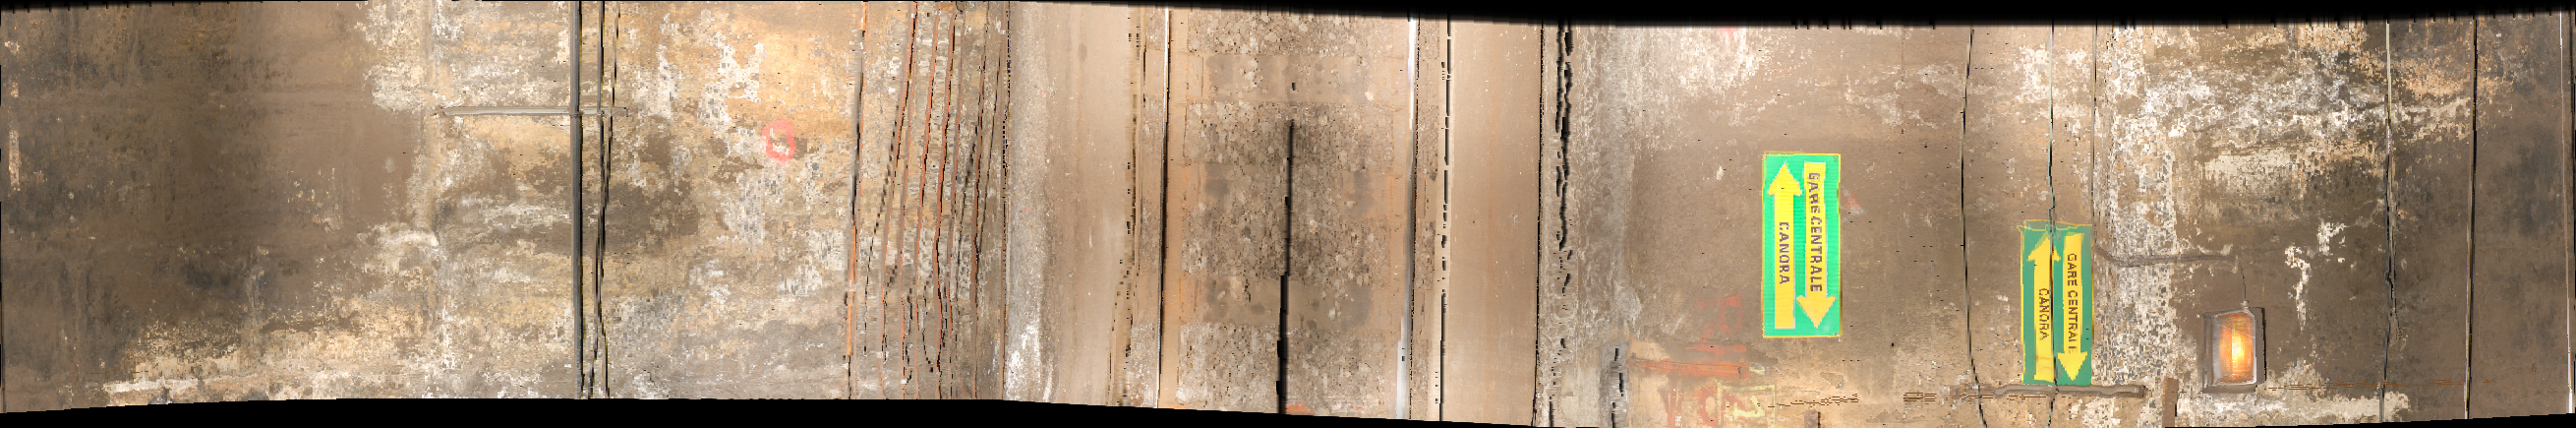light: (2208, 314, 2261, 392)
pipes: (567, 12, 636, 412), (2374, 18, 2412, 428), (2463, 21, 2489, 428)
sign: (1766, 158, 1842, 336), (2024, 230, 2088, 382)
tracks: (981, 2, 1584, 423)
